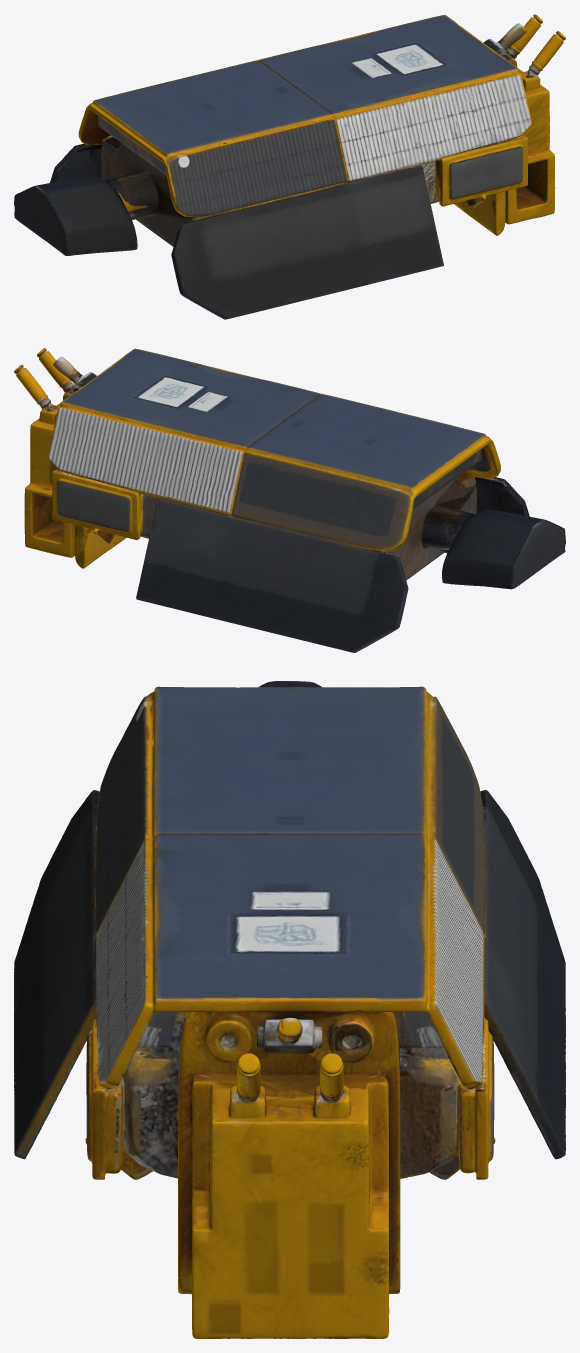
Rendered from truths.glb.
3 views of the same model, one above another, from view 1: azimuth 30°, elevation 25°; view 2: azimuth 150°, elevation 25°; view 3: azimuth 270°, elevation 25° (orthographic). The views are drawn at different scales.
Size of the model in its own units: 1.9 by 0.6244 by 0.9692.
Materials: 1 (1 with a texture image).
